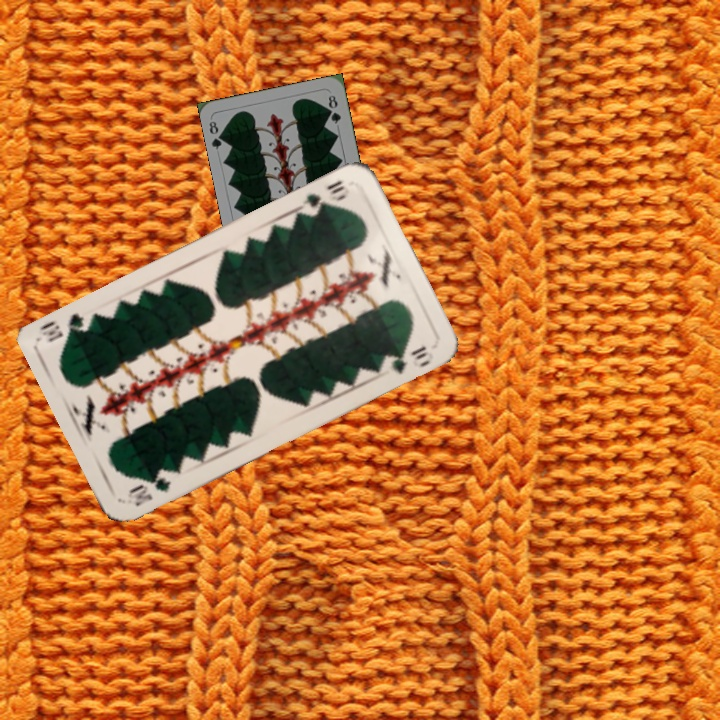G10: (297, 176, 348, 213), (123, 472, 174, 509)
G8: (205, 117, 228, 152)
